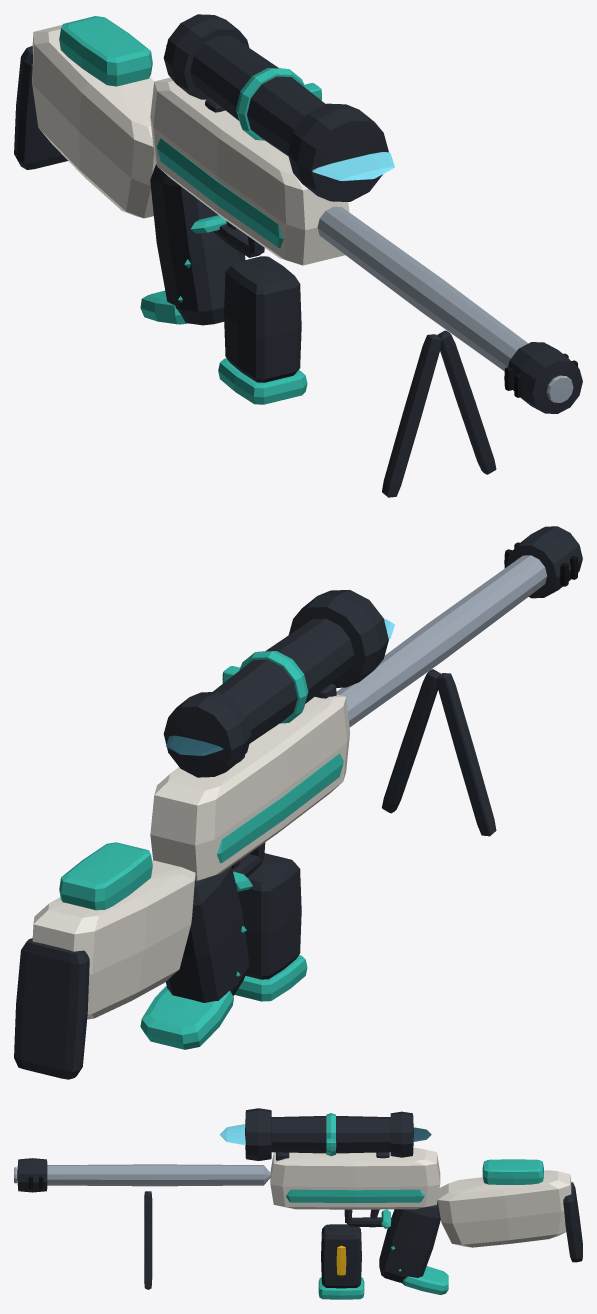
File: g-rifle-3.glb
3 renders of one model, top to bottom at view 1: azimuth 30°, elevation 25°; view 2: azimuth 150°, elevation 25°; view 3: azimuth 270°, elevation 25°, orthographic. The views are drawn at different scales.
Visible parts, largest first — view 1: gun; view 2: gun; view 3: gun.
Boxes of the visible parts, box(x1,y1,x2,y2) form: gun: box(14, 14, 582, 497); gun: box(14, 526, 582, 1079); gun: box(14, 1108, 582, 1299).
Bounding box in the file's own units: 0.2019 × 0.5845 × 1.65.
